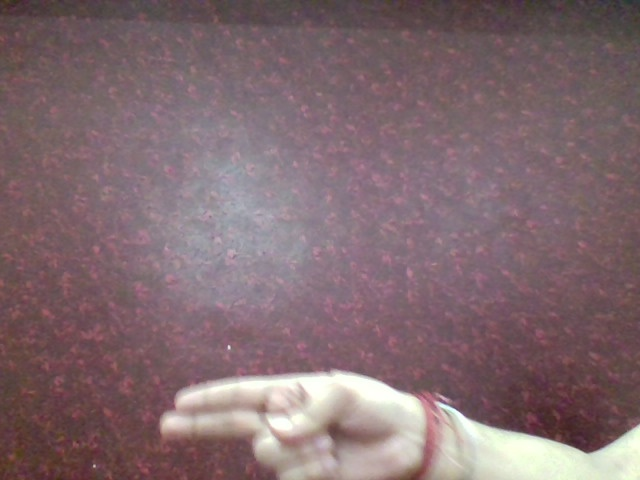h: (145, 354, 418, 480)
